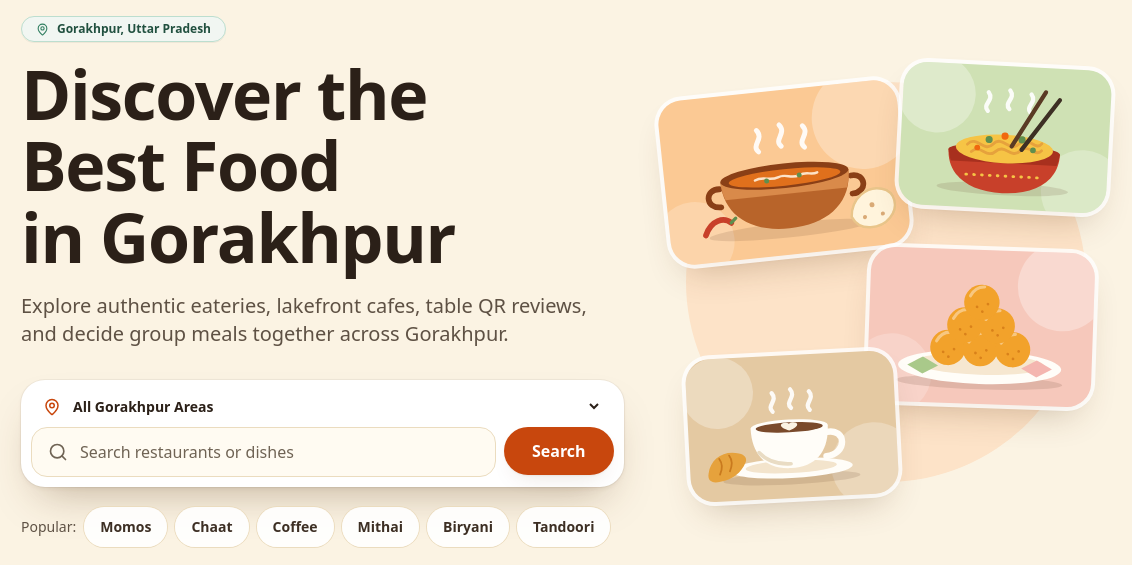
Scenario: HomePage › clears the search with the clear button, which only shows while there is text
Type "momos" into the search field labelled "Search restaurants or dishes" at (280, 452), box top-left (80, 428), bottom-right (479, 476)
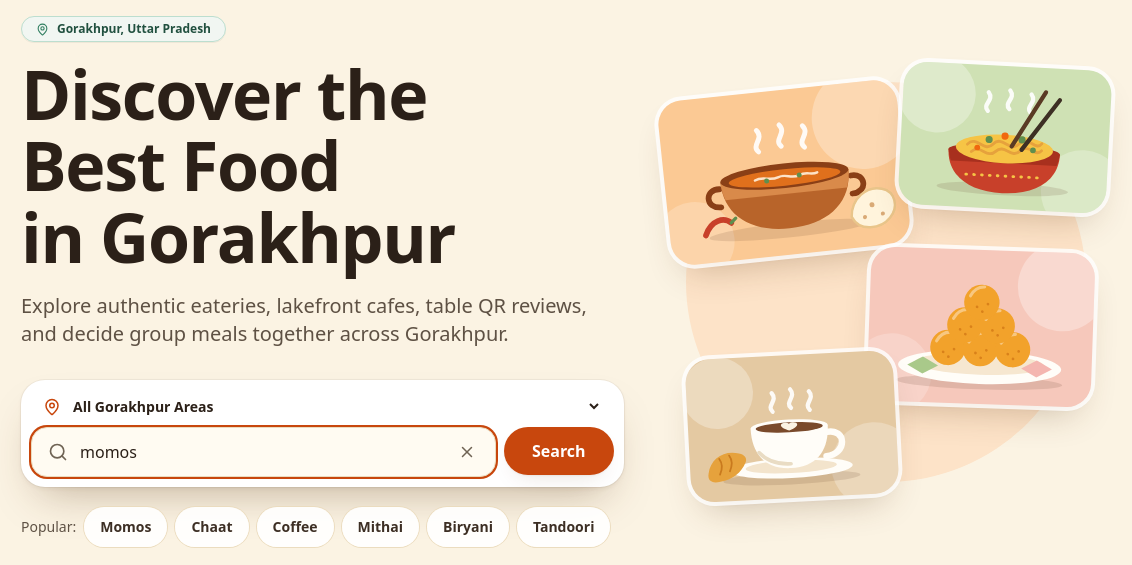
Click the button named "Clear search" at (467, 452), box top-left (447, 432), bottom-right (487, 472)
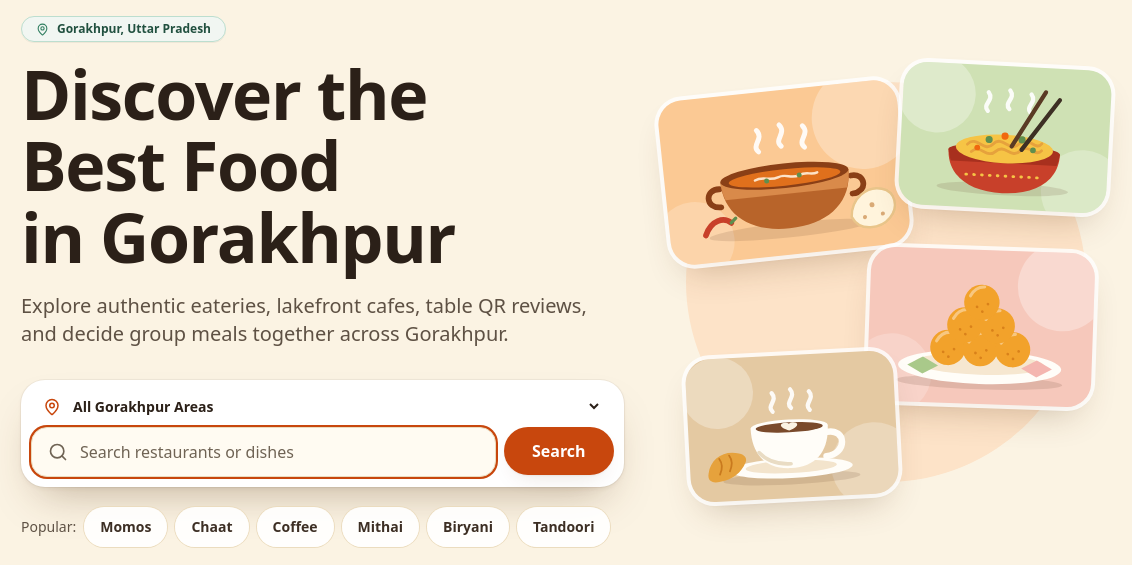
Expected: the search field labelled "Search restaurants or dishes" is empty, top-left (80, 428), bottom-right (479, 476)
